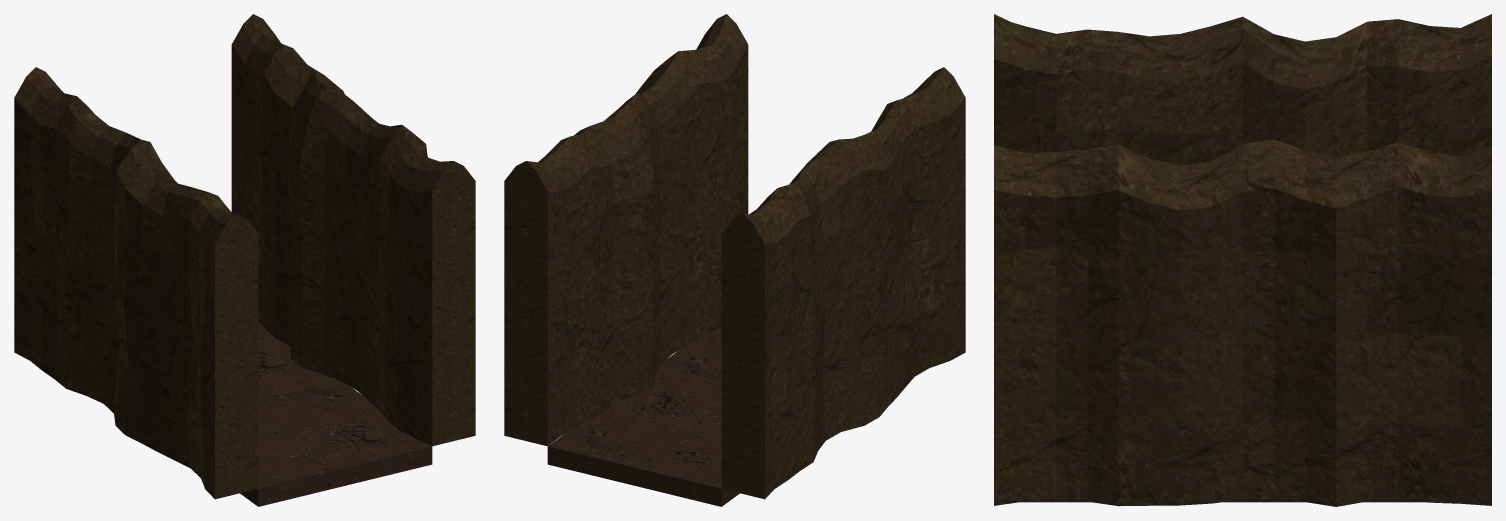
File: cave_corridor_01_dirt.glb
3 views of the same model, side by side, from view 1: azimuth 30°, elevation 25°; view 2: azimuth 150°, elevation 25°; view 3: azimuth 270°, elevation 25° (orthographic). The views are drawn at different scales.
Visible parts, largest first — view 1: cave_corridor_01_dirt; view 2: cave_corridor_01_dirt; view 3: cave_corridor_01_dirt.
Boxes of the visible parts, bbox=[...] form: cave_corridor_01_dirt: bbox=[14, 14, 475, 506]; cave_corridor_01_dirt: bbox=[504, 14, 965, 506]; cave_corridor_01_dirt: bbox=[994, 14, 1491, 506].
Bounding box in the file's own units: 3.09 × 3.28 × 4.
2 materials, 2 textured.
